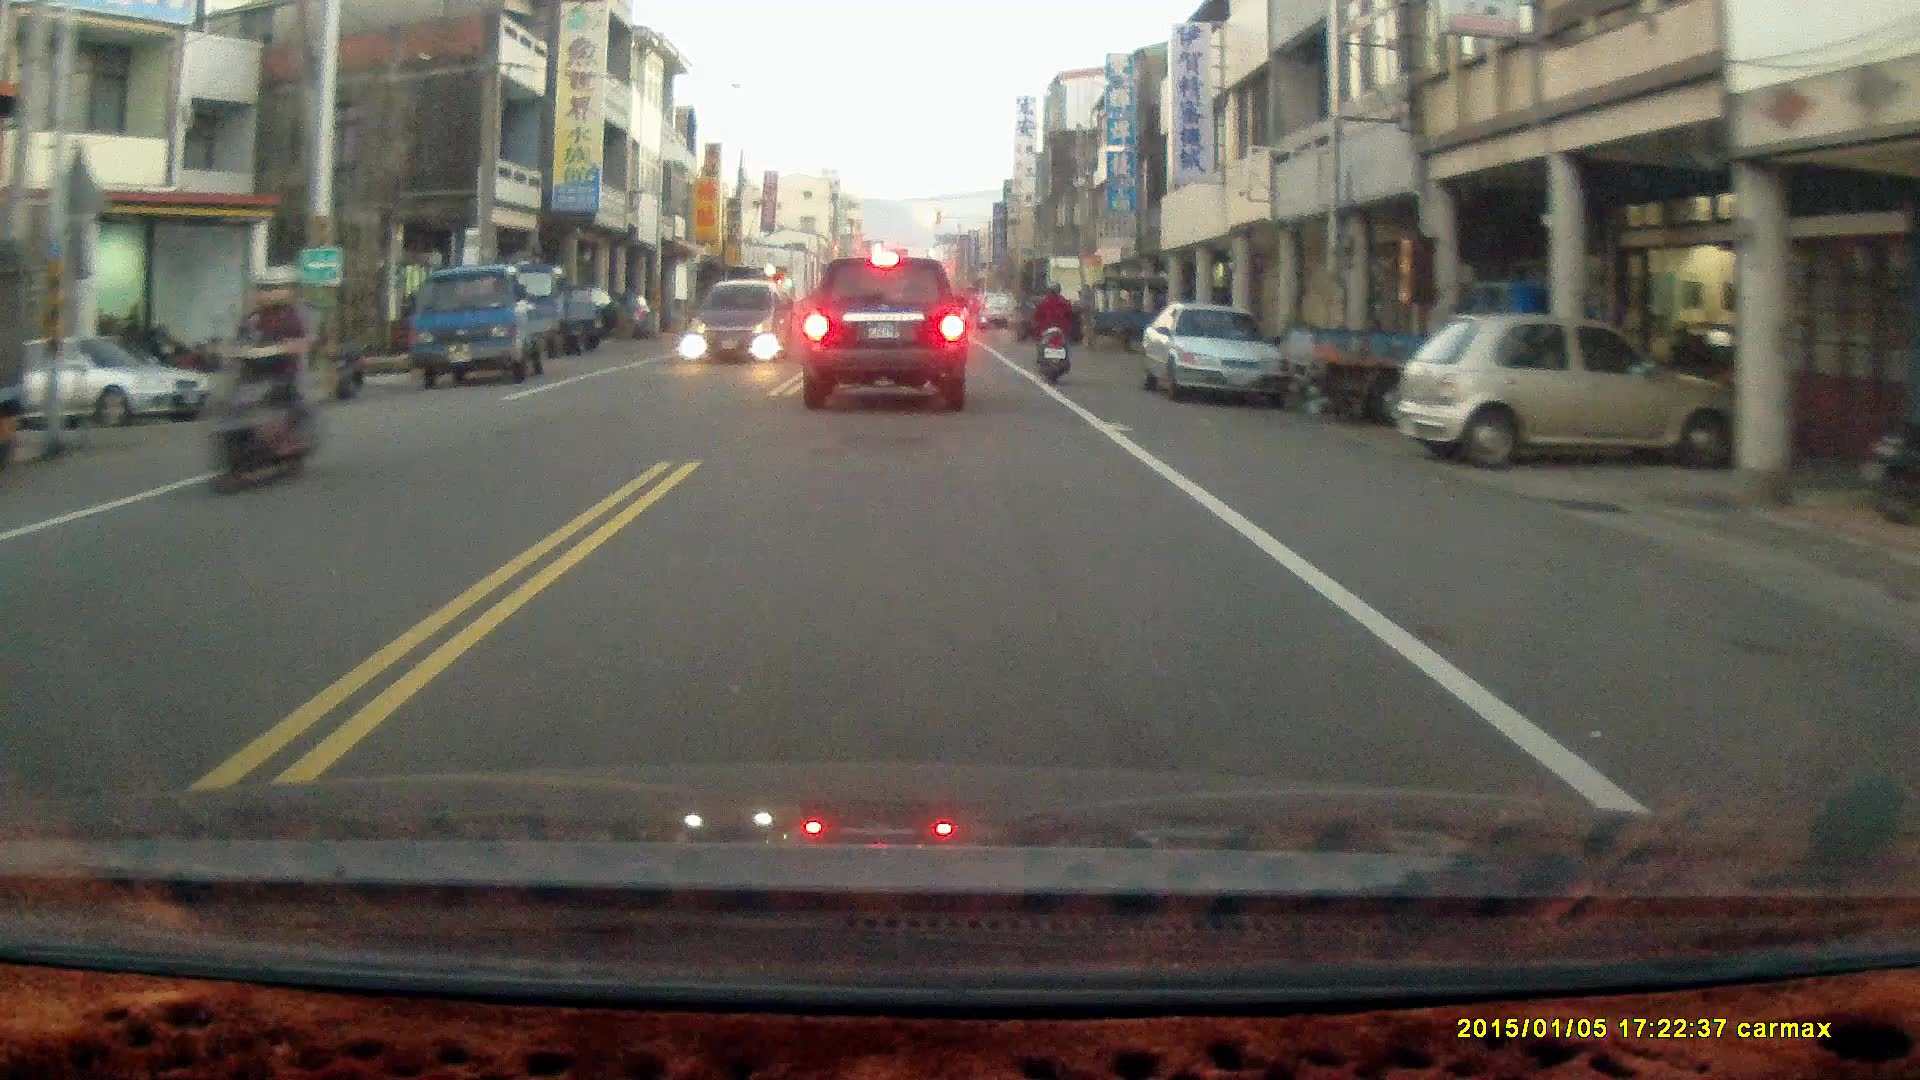rider: (191, 261, 340, 500), (1031, 278, 1073, 382)
vehicle: (1407, 312, 1733, 474), (796, 253, 971, 415), (3, 331, 208, 426), (411, 265, 571, 387), (1141, 304, 1298, 403), (689, 278, 790, 363)
